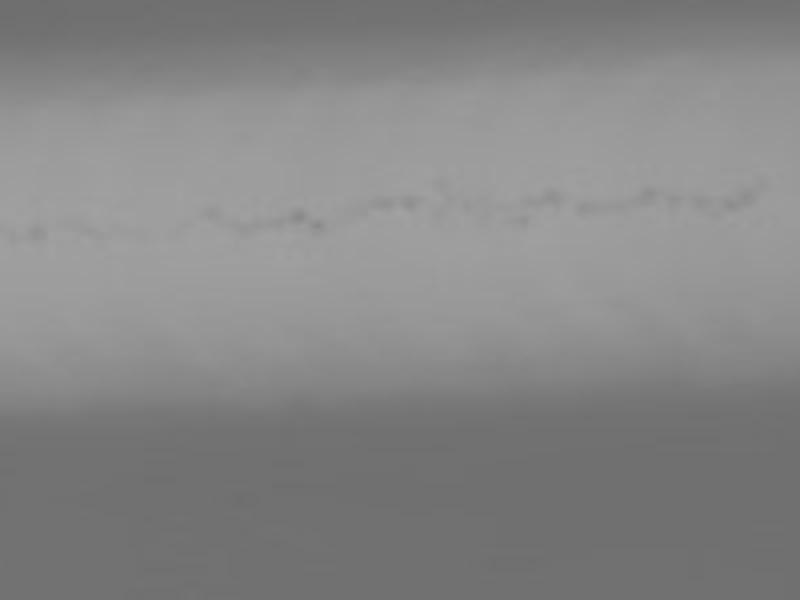defect: (723, 183, 761, 213), (518, 187, 563, 209), (236, 214, 284, 230), (25, 223, 51, 247), (368, 194, 396, 214), (429, 175, 451, 200), (403, 194, 425, 216), (308, 217, 328, 238), (202, 204, 222, 223), (642, 187, 660, 207), (665, 194, 684, 211), (512, 213, 532, 228), (695, 196, 711, 214), (291, 207, 305, 225), (581, 207, 597, 218)
